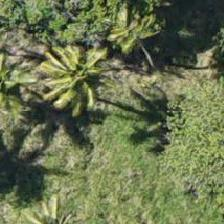coconut_tree: (30, 35, 120, 125), (88, 0, 178, 77)
